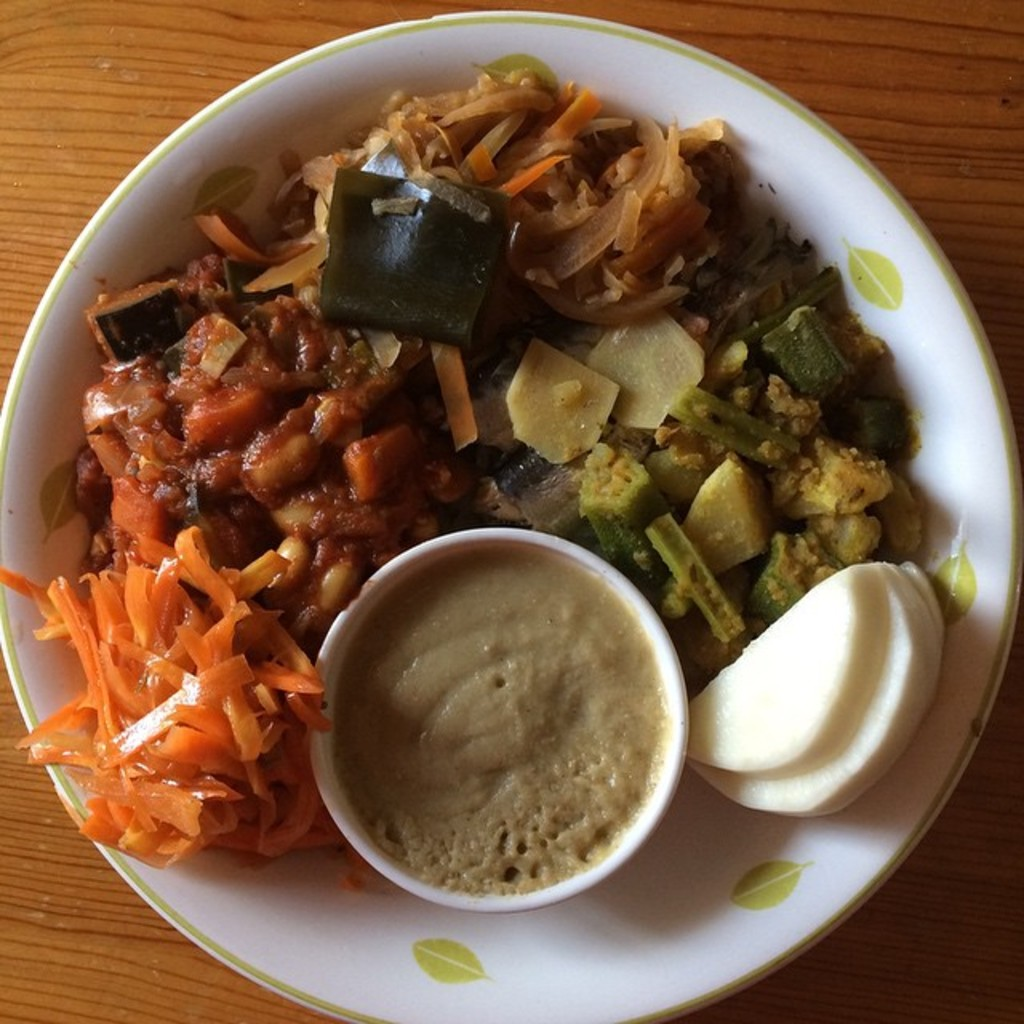Carrot: (0, 555, 348, 875)
